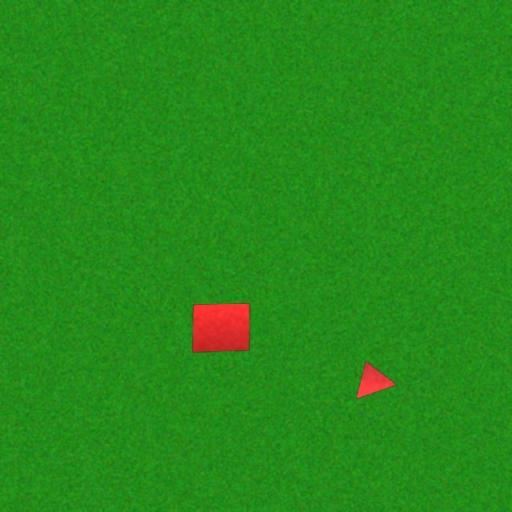RED_SQUARE: (192, 303, 250, 353)
